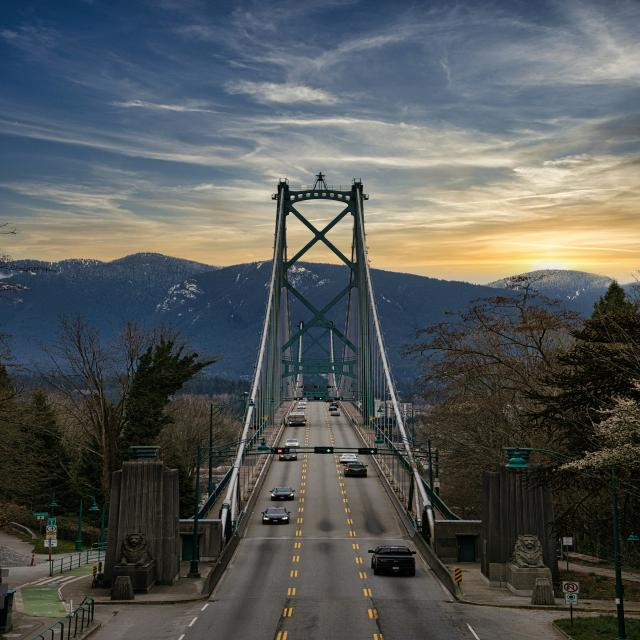Bus: (286, 413, 306, 426)
Car: (368, 545, 416, 577), (262, 507, 290, 524), (270, 487, 296, 500), (344, 462, 367, 476), (278, 448, 298, 461), (339, 454, 358, 463), (284, 438, 300, 446)
